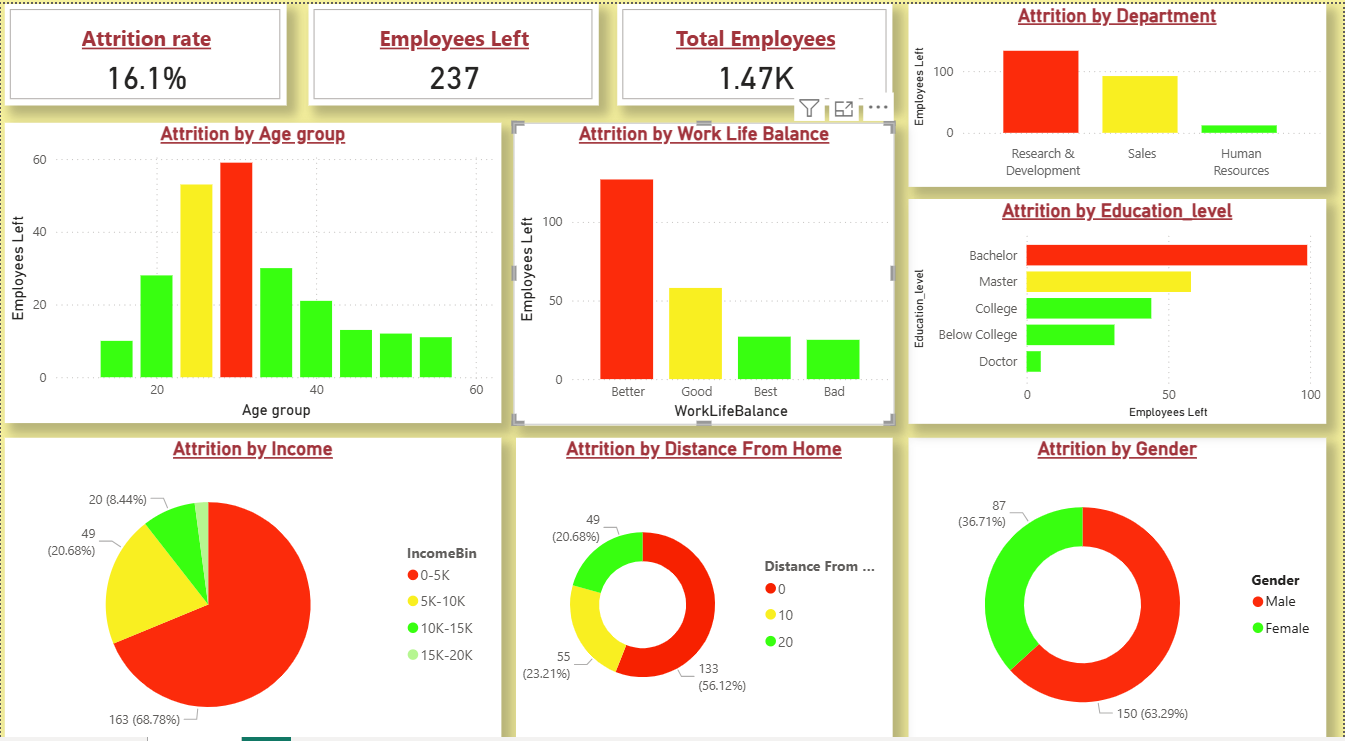

Layout of this report page (visuals, bound fields, positions):
{"tool":"powerbi","page":{"name":"Page 1","canvas":[1280,720],"ordinal":0},"visuals":[{"type":"cardVisual","fields":{"Data":["hr_attrition_clean.Attrition rate"]},"box":[3.3,0,268.9,96.7],"z":0},{"type":"cardVisual","fields":{"Data":["hr_attrition_clean.Employees Left"]},"box":[293.3,0,276.7,96.7],"z":1000},{"type":"cardVisual","fields":{"Data":["hr_attrition_clean.Total Employees"]},"box":[587.8,0,262.2,96.7],"z":2000},{"type":"clusteredColumnChart","title":"Attrition by Department","fields":{"Category":["hr_attrition_clean.Department"],"Y":["hr_attrition_clean.Employees Left"]},"box":[865.4,0,398.1,174],"z":3000},{"type":"donutChart","title":"Attrition by Gender","fields":{"Y":["hr_attrition_clean.Employees Left"],"Category":["hr_attrition_clean.Gender"]},"box":[865.4,413.6,398.1,298],"z":4000},{"type":"columnChart","title":"Attrition by Age group","fields":{"Category":["hr_attrition_clean.Age group"],"Y":["hr_attrition_clean.Employees Left"]},"box":[3.3,113.3,473.3,286.7],"z":5000},{"type":"clusteredBarChart","title":"Attrition by Education_level","fields":{"Category":["hr_attrition_clean.Education_level"],"Y":["hr_attrition_clean.Employees Left"]},"box":[865.4,186,398.1,214.6],"z":6000},{"type":"columnChart","title":"Attrition by Work Life Balance","fields":{"Category":["hr_attrition_clean.WorkLifeBalance"],"Y":["hr_attrition_clean.Employees Left"]},"box":[488.7,113.2,363.6,288.5],"z":7000},{"type":"pieChart","title":"Attrition by Income","fields":{"Category":["hr_attrition_clean.IncomeBin"],"Y":["hr_attrition_clean.Employees Left"]},"box":[3.3,413.3,473.3,297.8],"z":8000},{"type":"donutChart","title":"Attrition by Distance From Home ","fields":{"Y":["hr_attrition_clean.Employees Left"],"Category":["hr_attrition_clean.DistanceFromHome (bins)"]},"box":[491.1,413.6,358.8,298],"z":9001}]}

Visuals, with their boxes in screenshot pixels (x1, y1, x2, y2), scaled from the page's 1280x720 canvas onto the 1345x741 screenshot:
cardVisual - hr_attrition_clean.Attrition rate: {"left": 3, "top": 0, "right": 286, "bottom": 100}
cardVisual - hr_attrition_clean.Employees Left: {"left": 308, "top": 0, "right": 599, "bottom": 100}
cardVisual - hr_attrition_clean.Total Employees: {"left": 618, "top": 0, "right": 893, "bottom": 100}
"Attrition by Department" clusteredColumnChart: {"left": 909, "top": 0, "right": 1328, "bottom": 179}
"Attrition by Gender" donutChart: {"left": 909, "top": 426, "right": 1328, "bottom": 732}
"Attrition by Age group" columnChart: {"left": 3, "top": 117, "right": 501, "bottom": 412}
"Attrition by Education_level" clusteredBarChart: {"left": 909, "top": 191, "right": 1328, "bottom": 412}
"Attrition by Work Life Balance" columnChart: {"left": 514, "top": 117, "right": 896, "bottom": 413}
"Attrition by Income" pieChart: {"left": 3, "top": 425, "right": 501, "bottom": 732}
"Attrition by Distance From Home " donutChart: {"left": 516, "top": 426, "right": 893, "bottom": 732}
